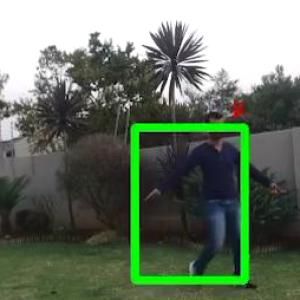land: (139, 109, 286, 288)
